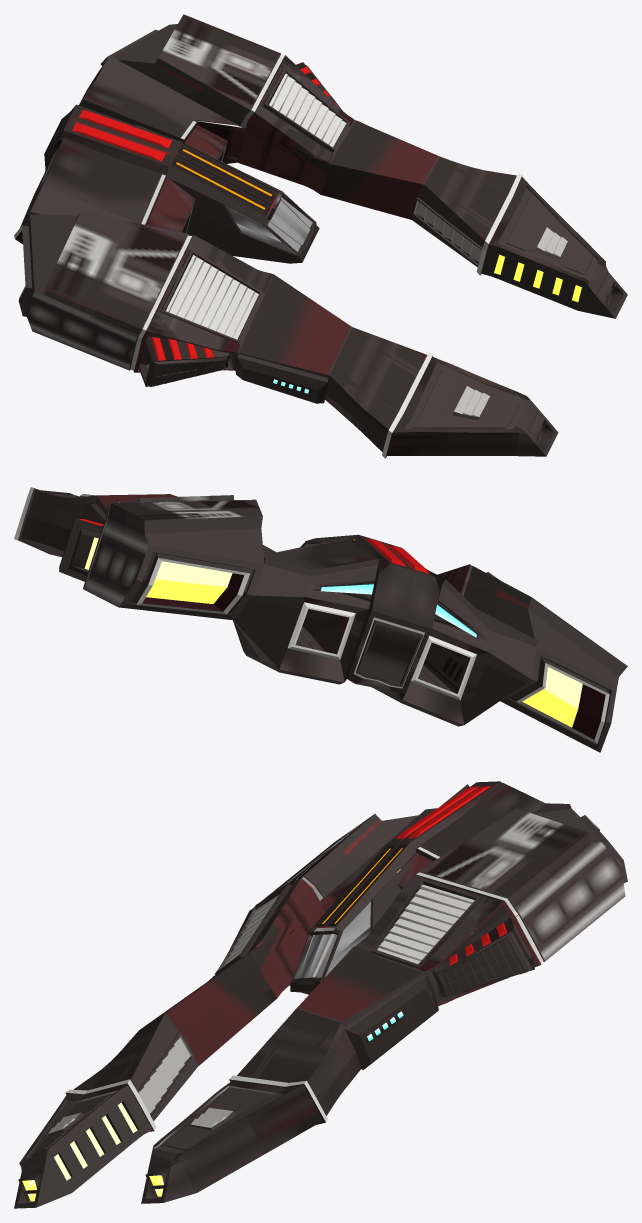
The model's file is ship1.glb.
3 views of the same model, one above another, from view 1: azimuth 30°, elevation 25°; view 2: azimuth 150°, elevation 25°; view 3: azimuth 270°, elevation 25° (orthographic). The views are drawn at different scales.
Parts seen in each view (by area): view 1: Object_7, Object_5, Object_4; view 2: Object_7, Object_4, Object_2; view 3: Object_7, Object_5, Object_4.
Part boxes in pixels (x1,y1,x2,y2): Object_7: (14, 14, 627, 458); Object_5: (227, 193, 312, 253); Object_4: (494, 254, 581, 301); Object_7: (14, 487, 627, 752); Object_4: (84, 537, 582, 727); Object_2: (321, 584, 476, 637); Object_7: (14, 781, 627, 1208); Object_5: (294, 902, 370, 978); Object_4: (54, 869, 400, 1180).
Size of the model in its own units: 0.8384 by 0.4443 by 0.7744.
Materials: 6 (1 with a texture image).
